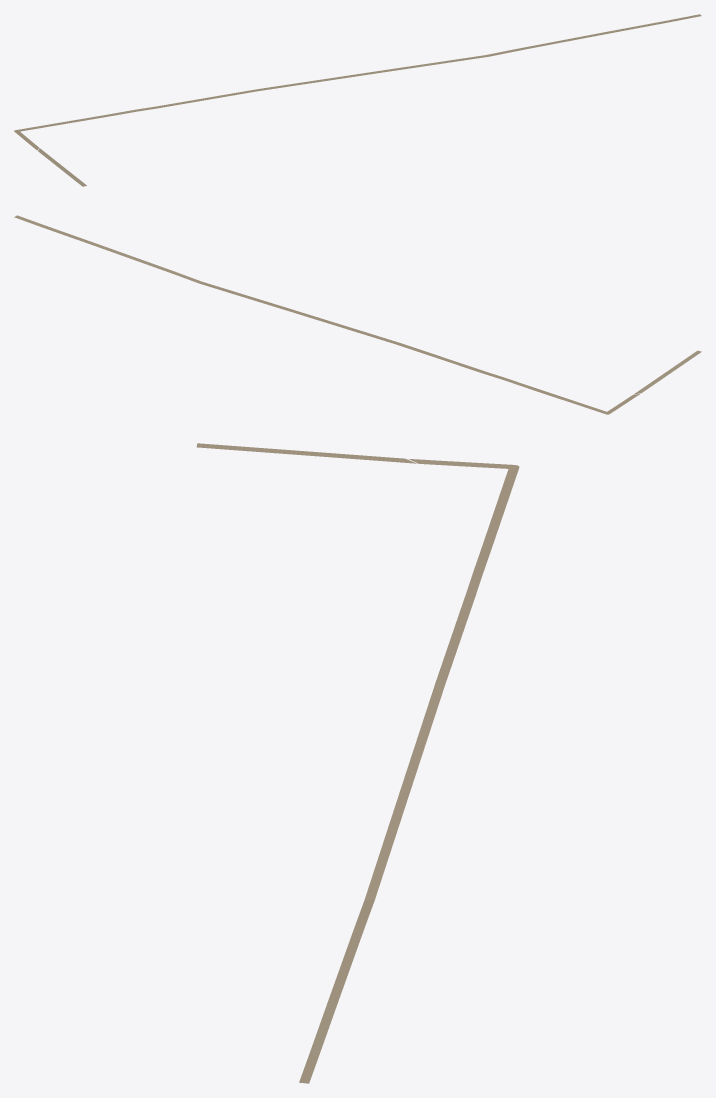
Rendered from farm_19_16_track.glb.
3 views of the same model, one above another, from view 1: azimuth 30°, elevation 25°; view 2: azimuth 150°, elevation 25°; view 3: azimuth 270°, elevation 25° (orthographic). The views are drawn at different scales.
Parts seen in each view (by area): view 1: geometry_0; view 2: geometry_0; view 3: geometry_0.
Part boxes in pixels (x1,y1,x2,y2): geometry_0: (14, 14, 701, 186); geometry_0: (14, 215, 701, 414); geometry_0: (196, 443, 519, 1083).
Size of the model in its own units: 478 by 7.1 by 103.
